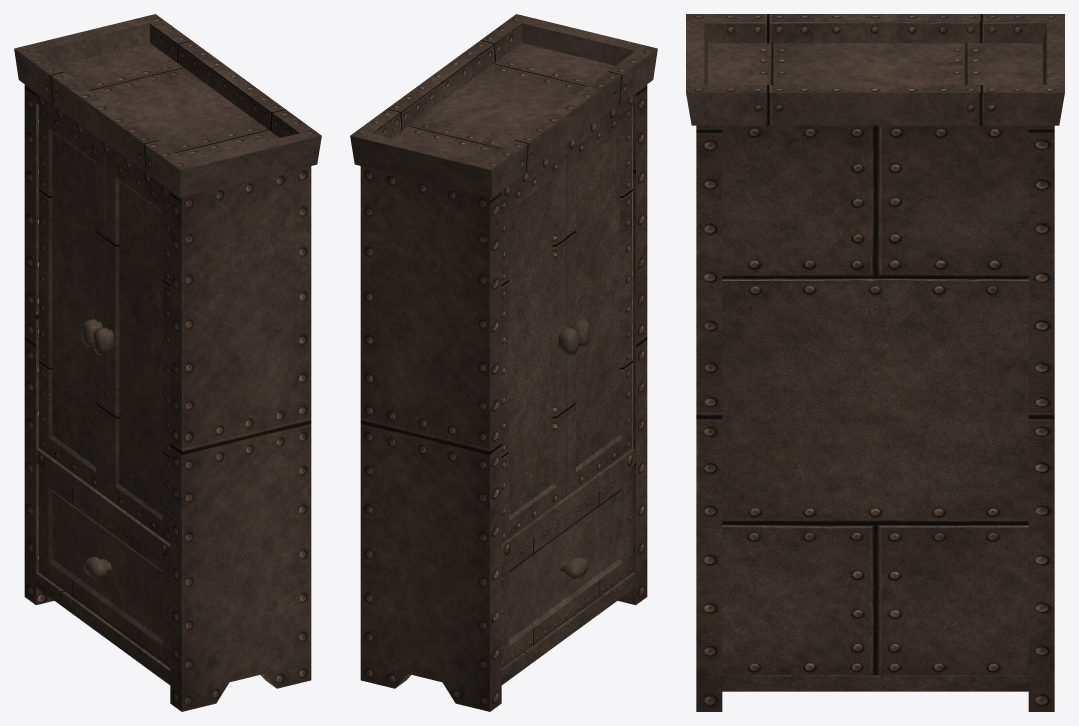
Rendered from Shelf_01_Metal.fbx.
The picture shows the model from 3 angles, left to right: view 1: azimuth 30°, elevation 25°; view 2: azimuth 150°, elevation 25°; view 3: azimuth 270°, elevation 25°; orthographic projection. The views are drawn at different scales.
Parts seen in each view (by area): view 1: Shelf_01_Metal; view 2: Shelf_01_Metal; view 3: Shelf_01_Metal.
Boxes of the visible parts, x1,y1,x2,y2 form: Shelf_01_Metal: (14,14,321,711); Shelf_01_Metal: (350,14,657,711); Shelf_01_Metal: (686,14,1064,711).
Bounding box in the file's own units: 65.8 × 228 × 126.
